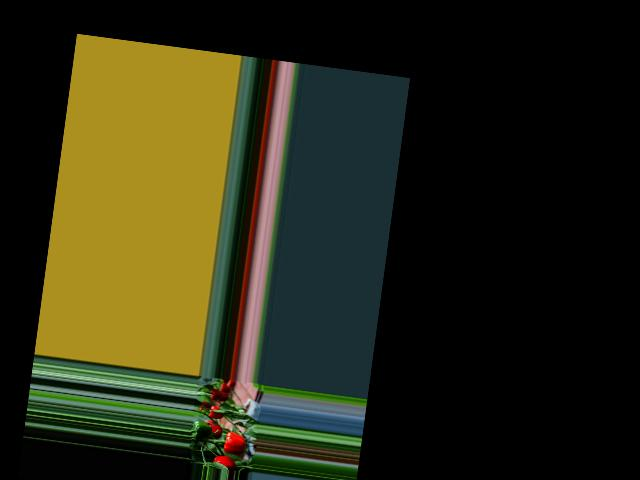bell_pepper: (205, 403, 228, 420)
